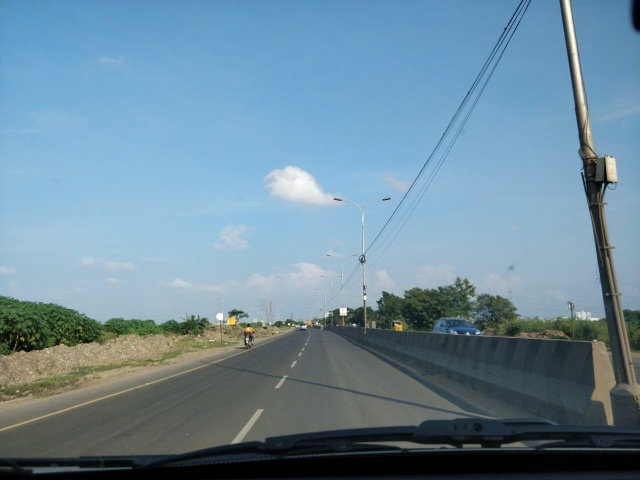auto: (389, 317, 404, 331)
car: (436, 315, 480, 336)
motorbike: (236, 322, 260, 358)
